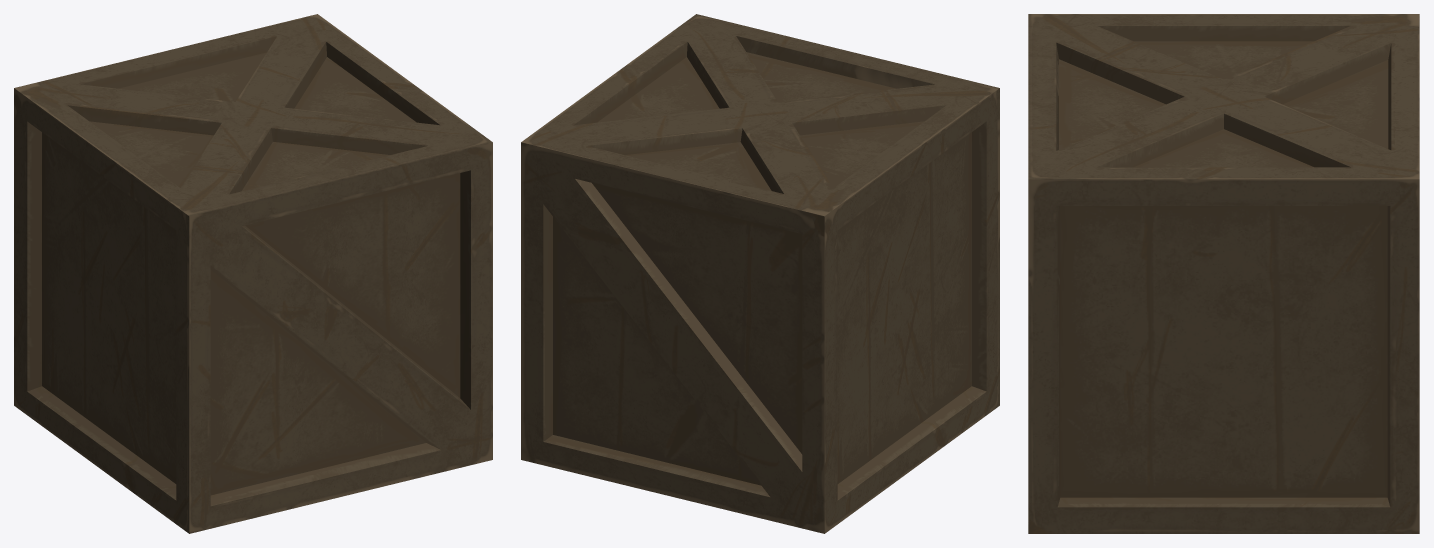
File: prop_Box_v01.gltf
The picture shows the model from 3 angles, left to right: view 1: azimuth 30°, elevation 25°; view 2: azimuth 150°, elevation 25°; view 3: azimuth 270°, elevation 25°; orthographic projection. The views are drawn at different scales.
Parts seen in each view (by area): view 1: Box_v01; view 2: Box_v01; view 3: Box_v01.
Part boxes in pixels (box(x1,y1,x2,y2)): Box_v01: box(14, 14, 492, 533); Box_v01: box(521, 14, 999, 533); Box_v01: box(1028, 14, 1419, 533).
Size of the model in its own units: 1 by 1 by 1.
1 material, 1 textured.
